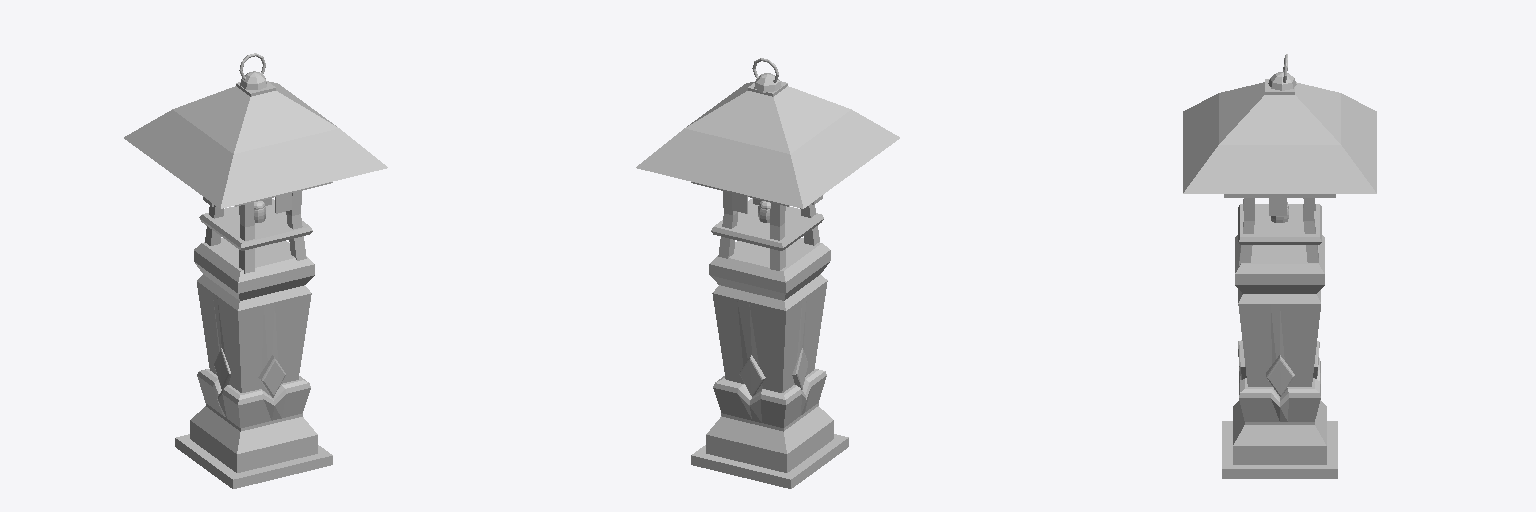
File: TD_TowerOFtheCharkram_mesh.obj
The picture shows the model from 3 angles: view 1: azimuth 30°, elevation 25°; view 2: azimuth 150°, elevation 25°; view 3: azimuth 270°, elevation 25°; orthographic projection.
Parts seen in each view (by area): view 1: TD_TowerOfTheChakram01_mesh; view 2: TD_TowerOfTheChakram01_mesh; view 3: TD_TowerOfTheChakram01_mesh.
Boxes of the visible parts, <box> form: TD_TowerOfTheChakram01_mesh: <box>124,53,387,488</box>; TD_TowerOfTheChakram01_mesh: <box>636,58,899,488</box>; TD_TowerOfTheChakram01_mesh: <box>1183,54,1376,478</box>.
Bounding box in the file's own units: 1.69 × 3.81 × 1.69.